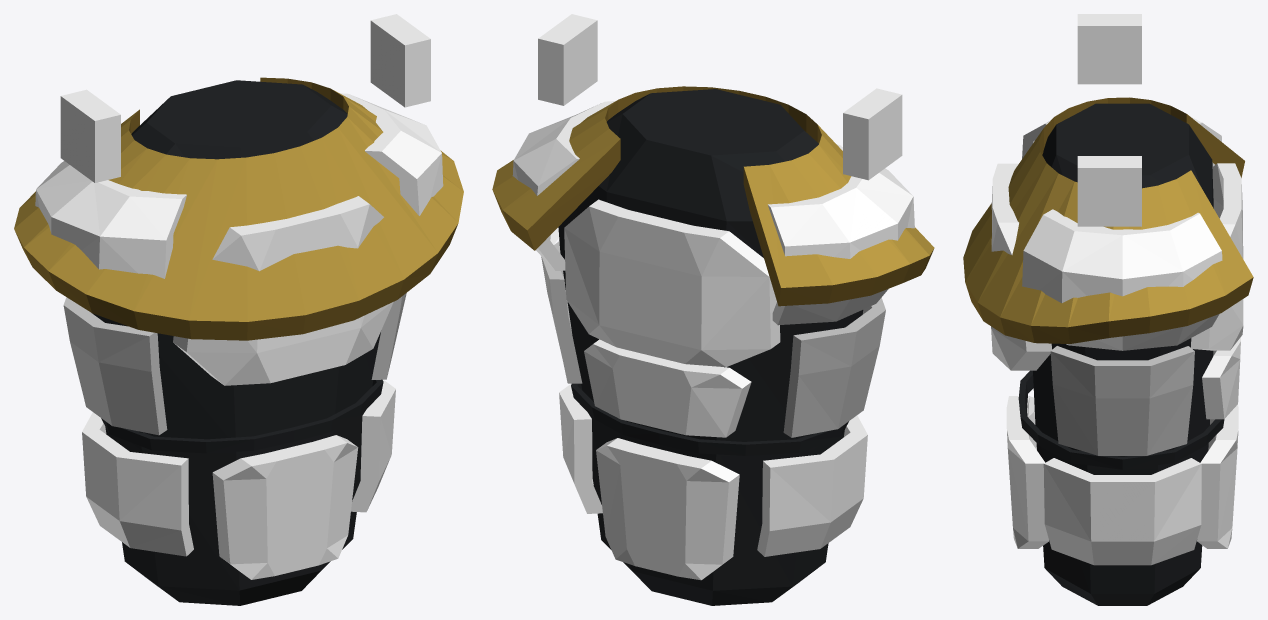
File: person_male_armor_marine_prestige.obj
3 views of the same model, side by side, from view 1: azimuth 30°, elevation 25°; view 2: azimuth 150°, elevation 25°; view 3: azimuth 270°, elevation 25° (orthographic). The views are drawn at different scales.
Visible parts, largest first — view 1: person_male_armor_marine_prestige, person_male_armor_marine_prestige_addons; view 2: person_male_armor_marine_prestige, person_male_armor_marine_prestige_addons; view 3: person_male_armor_marine_prestige, person_male_armor_marine_prestige_addons.
Boxes of the visible parts, x1,y1,x2,y2 form: person_male_armor_marine_prestige: [35, 80, 443, 605]; person_male_armor_marine_prestige_addons: [14, 14, 463, 340]; person_male_armor_marine_prestige: [512, 89, 914, 605]; person_male_armor_marine_prestige_addons: [492, 14, 934, 306]; person_male_armor_marine_prestige: [991, 103, 1243, 605]; person_male_armor_marine_prestige_addons: [963, 14, 1253, 343].
Bounding box in the file's own units: 0.6996 × 0.825 × 0.4508.
